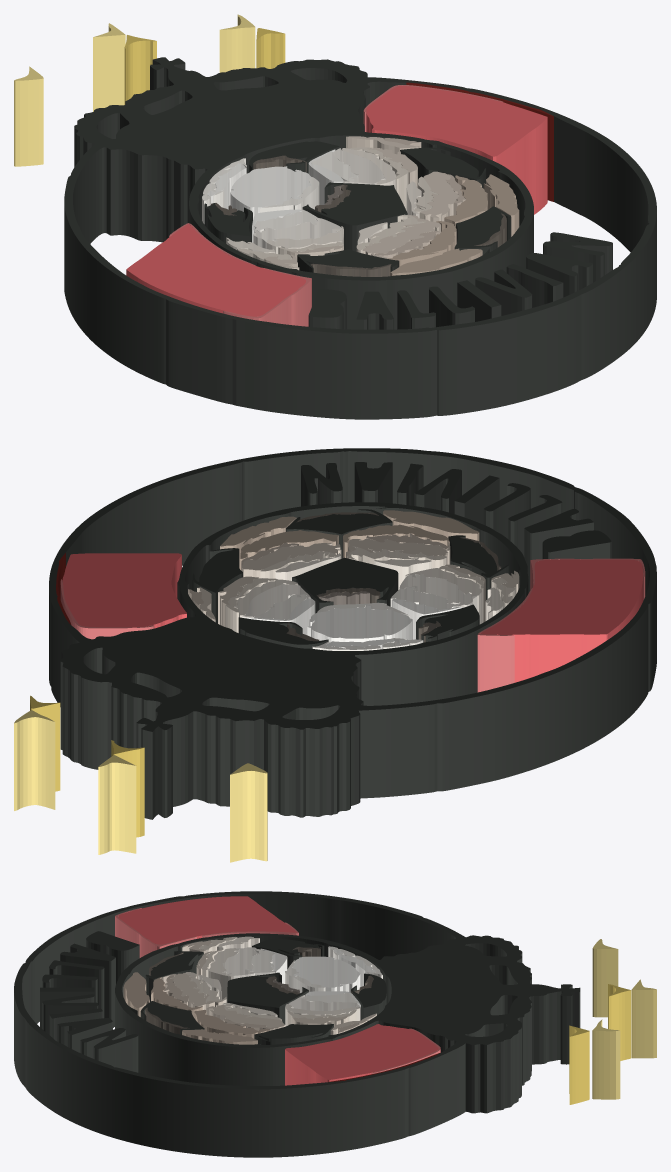
File: balliviam.glb
3 views of the same model, one above another, from view 1: azimuth 30°, elevation 25°; view 2: azimuth 150°, elevation 25°; view 3: azimuth 270°, elevation 25° (orthographic). The views are drawn at different scales.
Parts seen in each view (by area): view 1: Node1, Node3, Node2, Node44, Node4, Node46, Node45, Node50, Node47, Node18, Node13, Node8 (+18 smaller); view 2: Node1, Node2, Node3, Node45, Node46, Node44, Node4, Node49, Node8, Node9, Node18, Node13 (+18 smaller); view 3: Node1, Node3, Node2, Node45, Node46, Node4, Node44, Node51, Node50, Node47, Node9, Node12 (+13 smaller).
Part boxes in pixels (x1,y1,x2,y2): Node1: (64,57,656,419); Node3: (366,86,547,214); Node2: (126,224,305,316); Node44: (14,66,43,166); Node4: (230,166,311,219); Node46: (93,23,125,111); Node45: (219,14,255,72); Node50: (124,35,156,104); Node47: (223,267,311,326); Node18: (253,218,341,248); Node13: (419,171,459,221); Node8: (390,248,482,275); Node1: (49,448,656,819); Node2: (480,559,643,682); Node3: (62,553,186,628); Node45: (14,710,55,810); Node46: (98,755,136,854); Node44: (230,763,267,862); Node4: (307,604,412,642); Node49: (477,588,532,692); Node8: (383,510,479,540); Node9: (239,530,338,570); Node18: (399,573,477,609); Node13: (242,543,341,578); Node1: (14,891,580,1157); Node3: (285,1024,438,1085); Node2: (118,896,296,944); Node45: (592,1019,620,1099); Node46: (631,979,656,1058); Node4: (292,956,360,992); Node44: (592,939,618,1017); Node51: (569,1025,589,1104); Node50: (608,984,631,1060); Node47: (115,908,196,957); Node9: (194,1009,269,1038); Node12: (162,973,224,1014).
Bounding box in the file's own units: 62.08 × 10 × 85.19.
